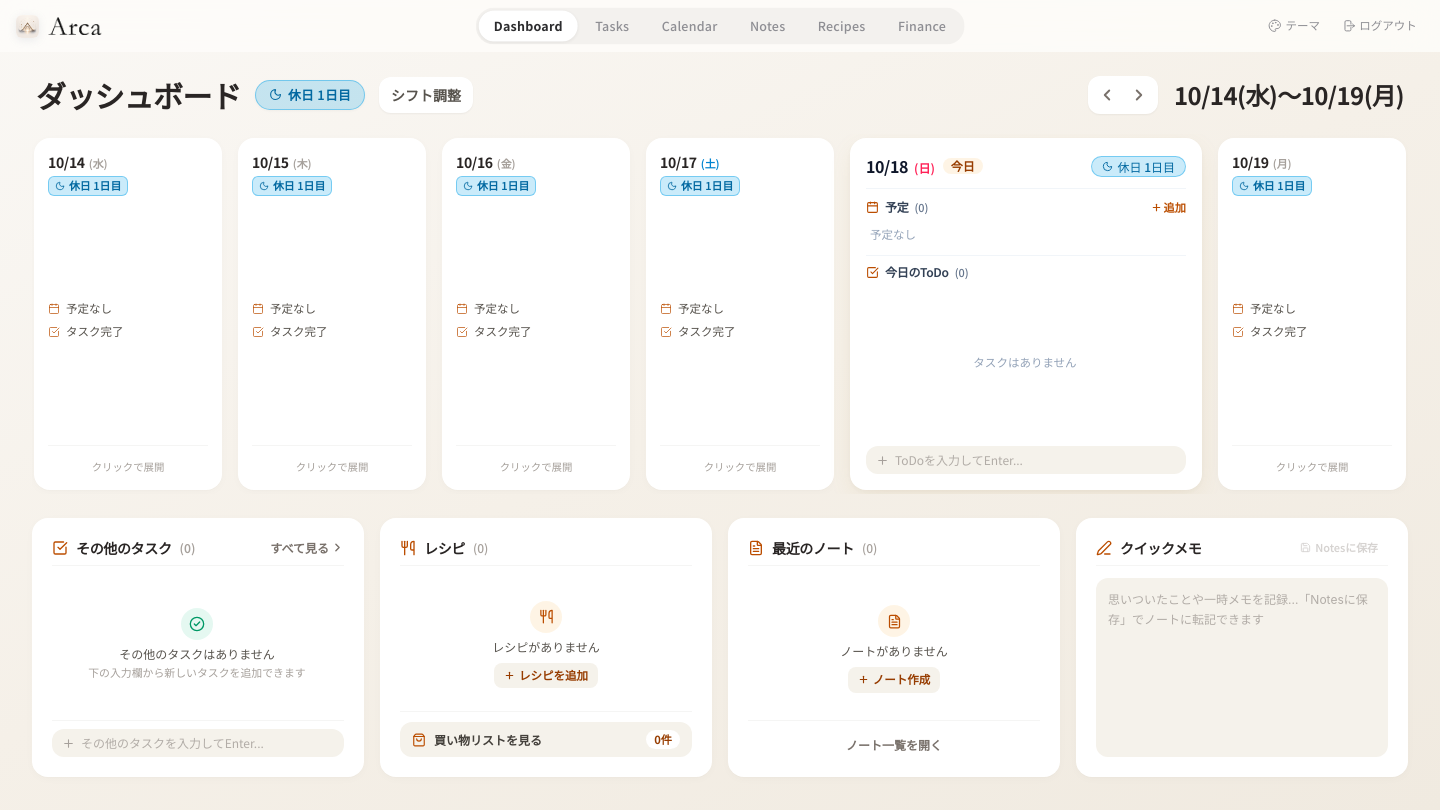
Test: システム保守・診断コンソール (System Maintenance) › App ヘッダー連携 › Arca ロゴを2秒長押しすると SystemMaintenanceModal が開くこと
//  2秒長押し開始
Press the mouse on the element titled "ホーム（2秒長押しでシステム保守・診断コンソール）": (65, 26) left=16, top=14, right=114, bottom=38
Wait 2100 ms
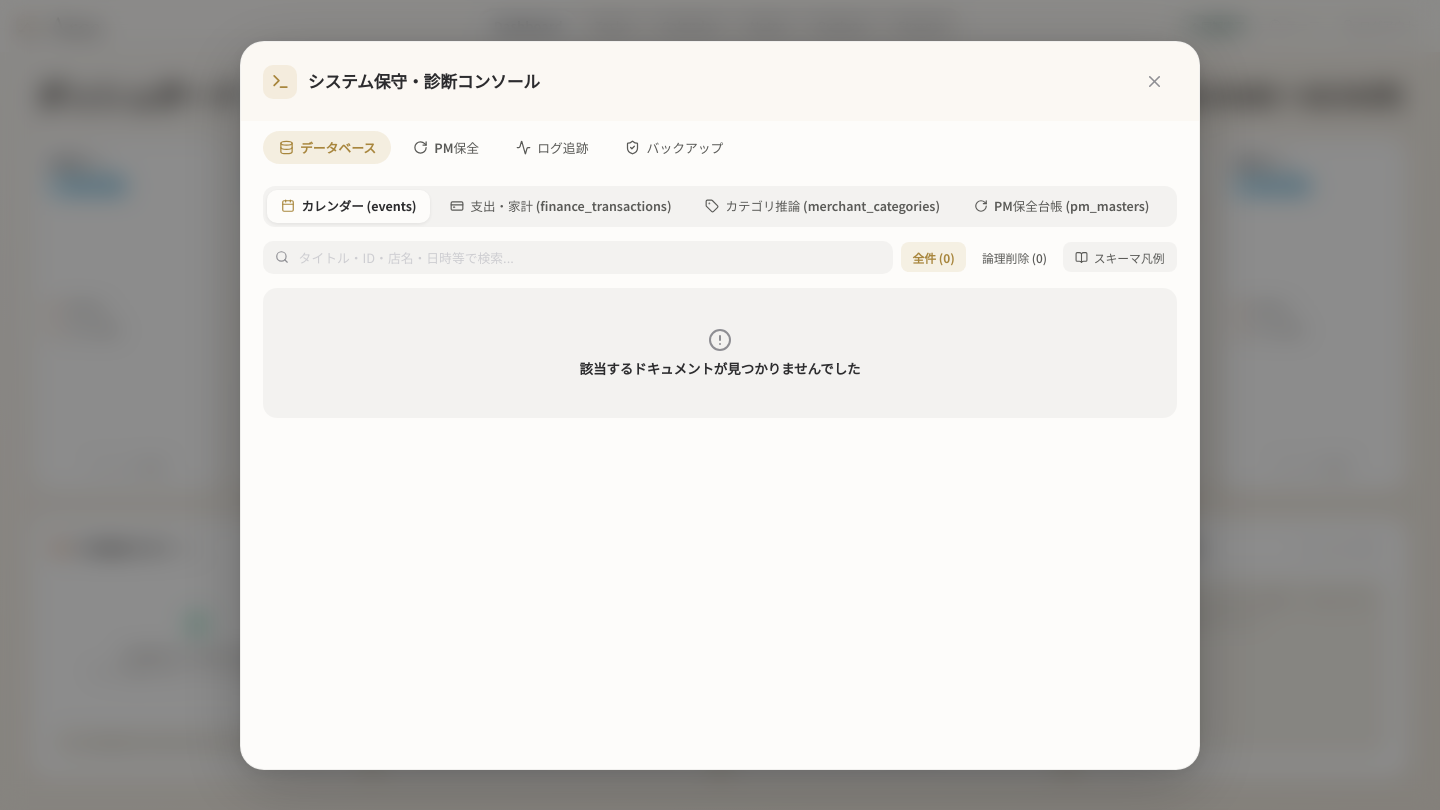
Result: the heading "システム保守・診断コンソール" is shown at left=308, top=68, right=540, bottom=94
